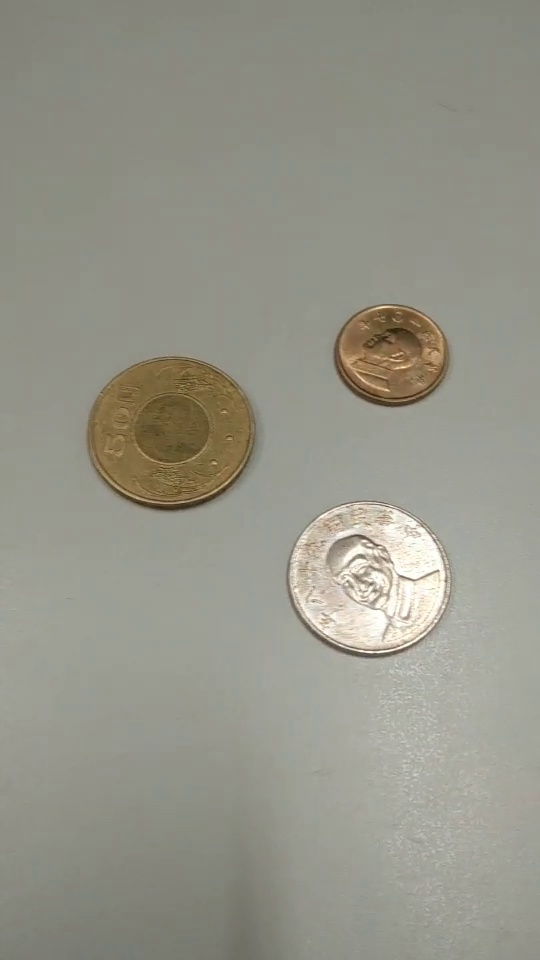NT$ 1: (332, 304, 448, 406)
NT$ 10: (286, 499, 451, 659)
NT$ 50: (88, 357, 256, 513)
